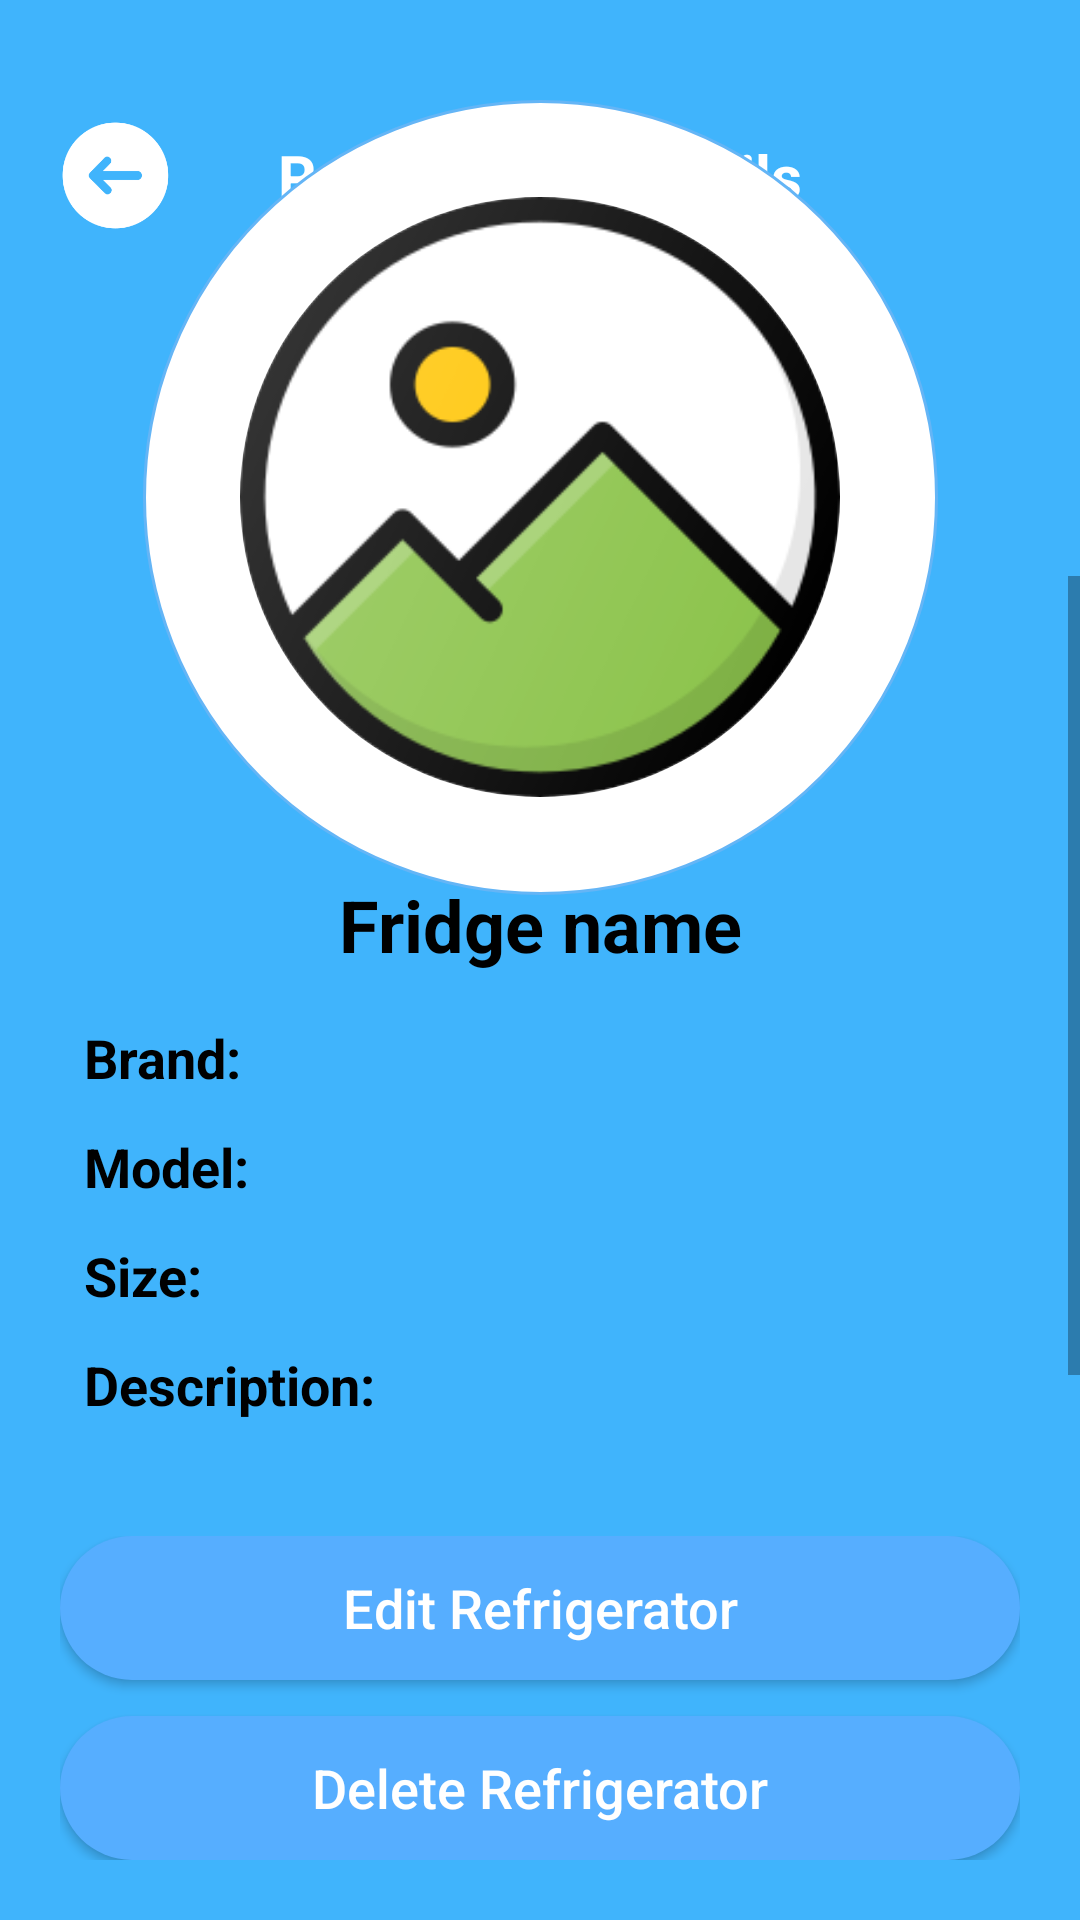

Point at icon controls on the screen. Image size 1080px×1920px, points as (x,y).
back arrow: (115,175)
